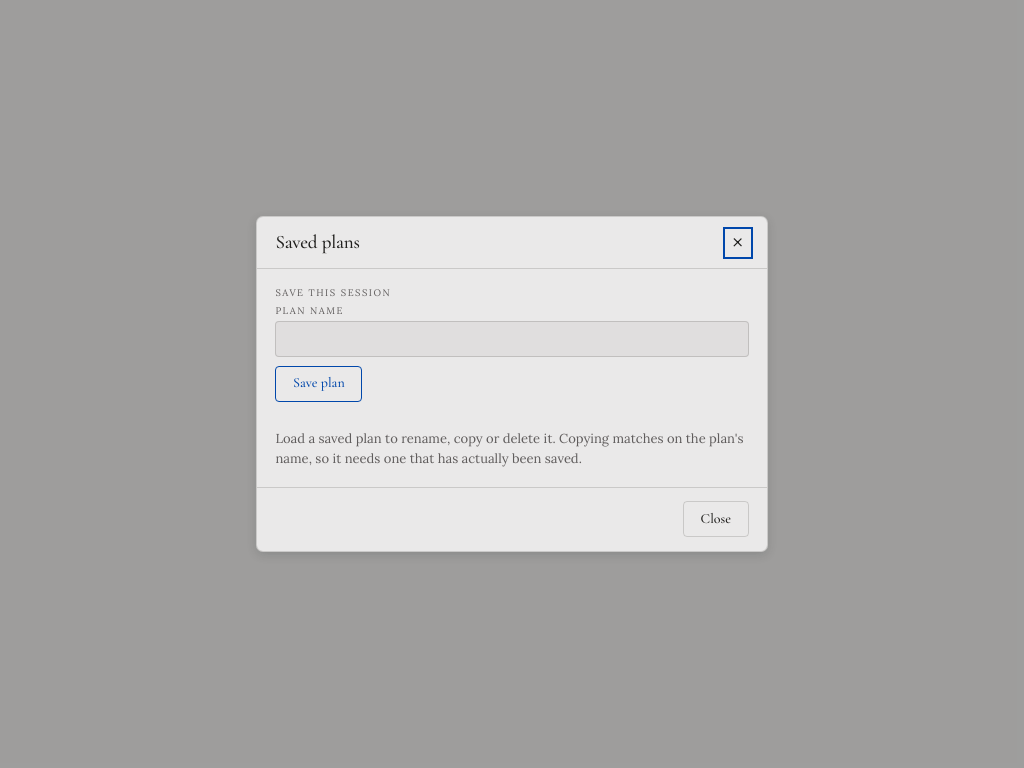
it: saving under a name › saves, and reports success on what the client returns
Type "Friday Session" into the field labelled "Plan name" at x=512, y=338, box x1=275 y1=320 x2=749 y2=356
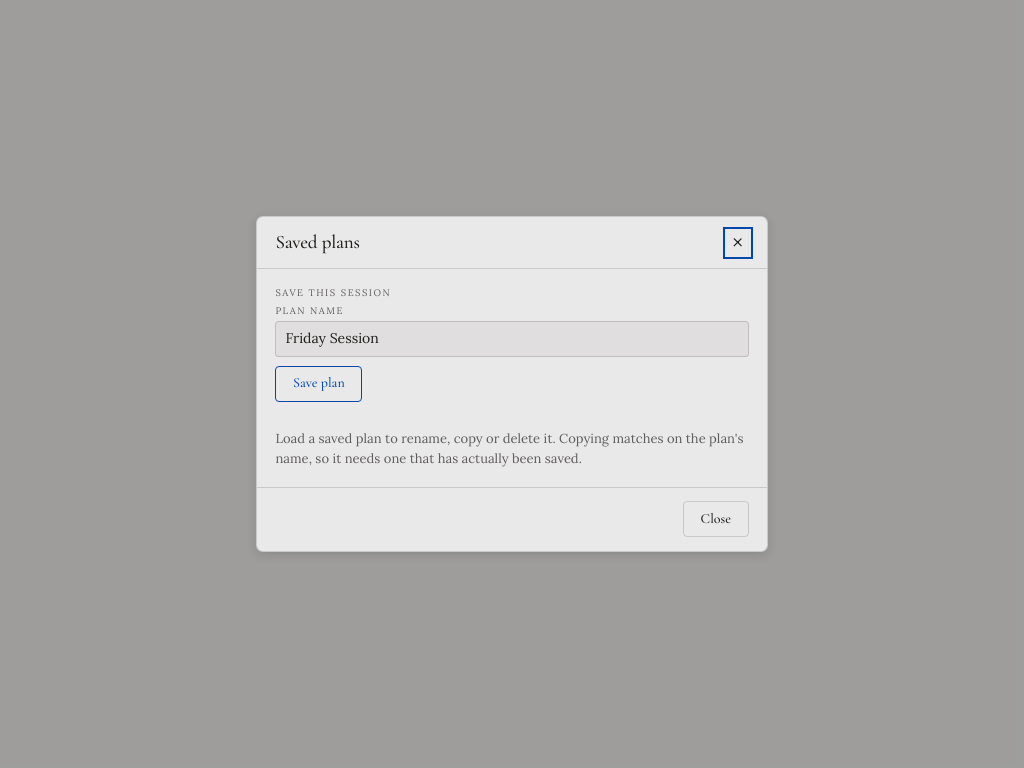
Click the button "Save plan" at x=319, y=384, box x1=275 y1=366 x2=362 y2=402
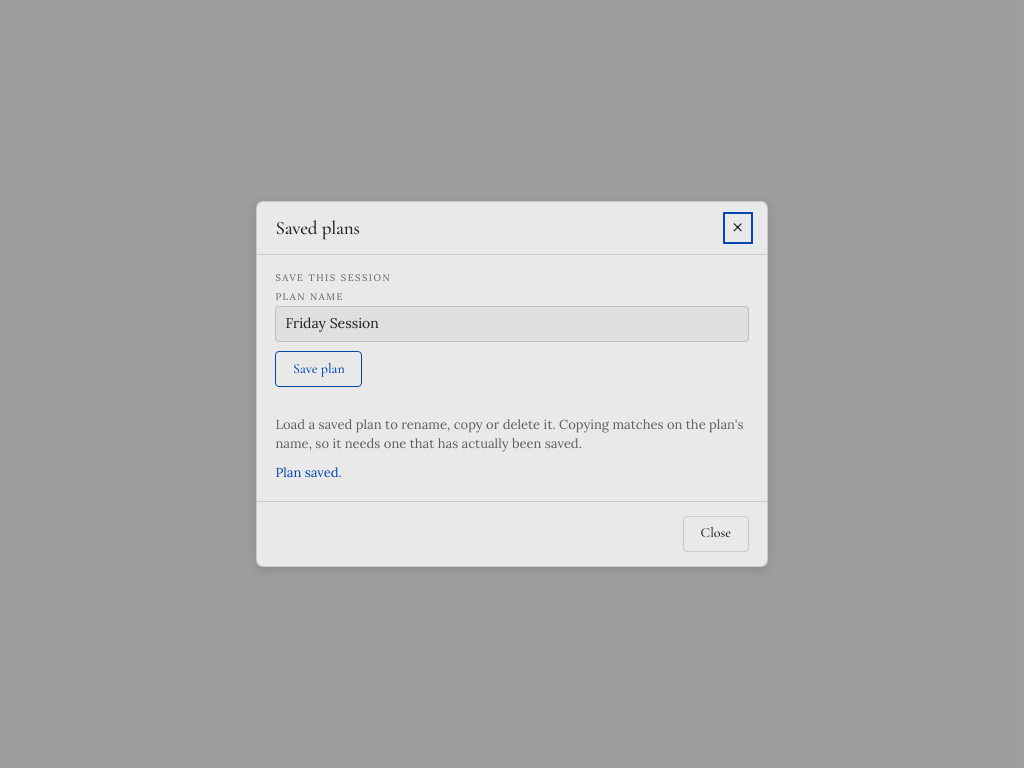
Check: the message "Plan saved." is shown, box x1=275 y1=464 x2=342 y2=481
